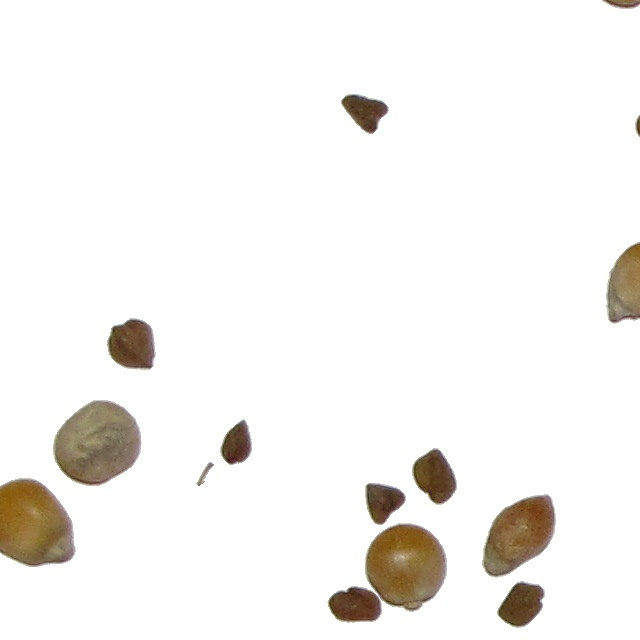buckwheat: (411, 447, 458, 506), (106, 317, 157, 371), (496, 580, 546, 629), (326, 585, 383, 624), (340, 93, 390, 135), (364, 482, 407, 526), (219, 418, 253, 466), (634, 96, 640, 147)
dill: (195, 461, 215, 487)
mais: (52, 399, 143, 487), (364, 522, 448, 613), (481, 493, 557, 579), (605, 239, 640, 326)
